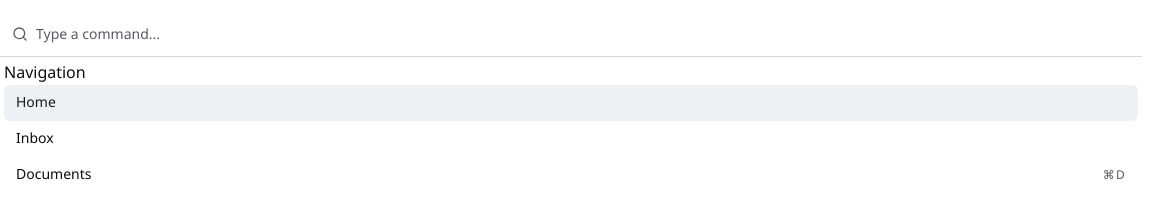
Test case: Command › filters as you type
Expected: the number of options is 3, [4,85,1138,121]; [16,128,54,149]; [16,164,1126,185]
Type "inb" into the dropdown with placeholder "Type a command..." at point(583, 34), box [36,12,1130,56]
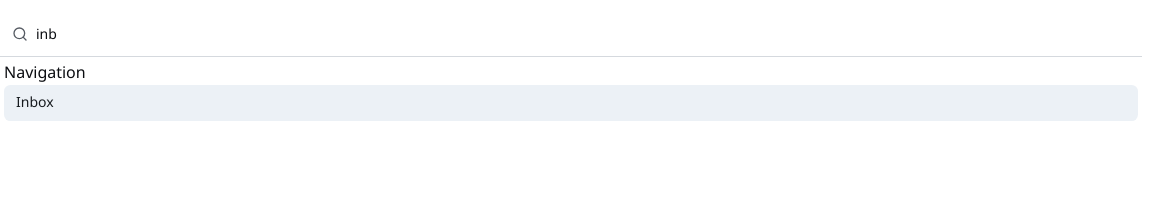
Expected: the option reads "Inbox", [4,85,1138,121]
Result: the number of options is 1 at [4,85,1138,121]
